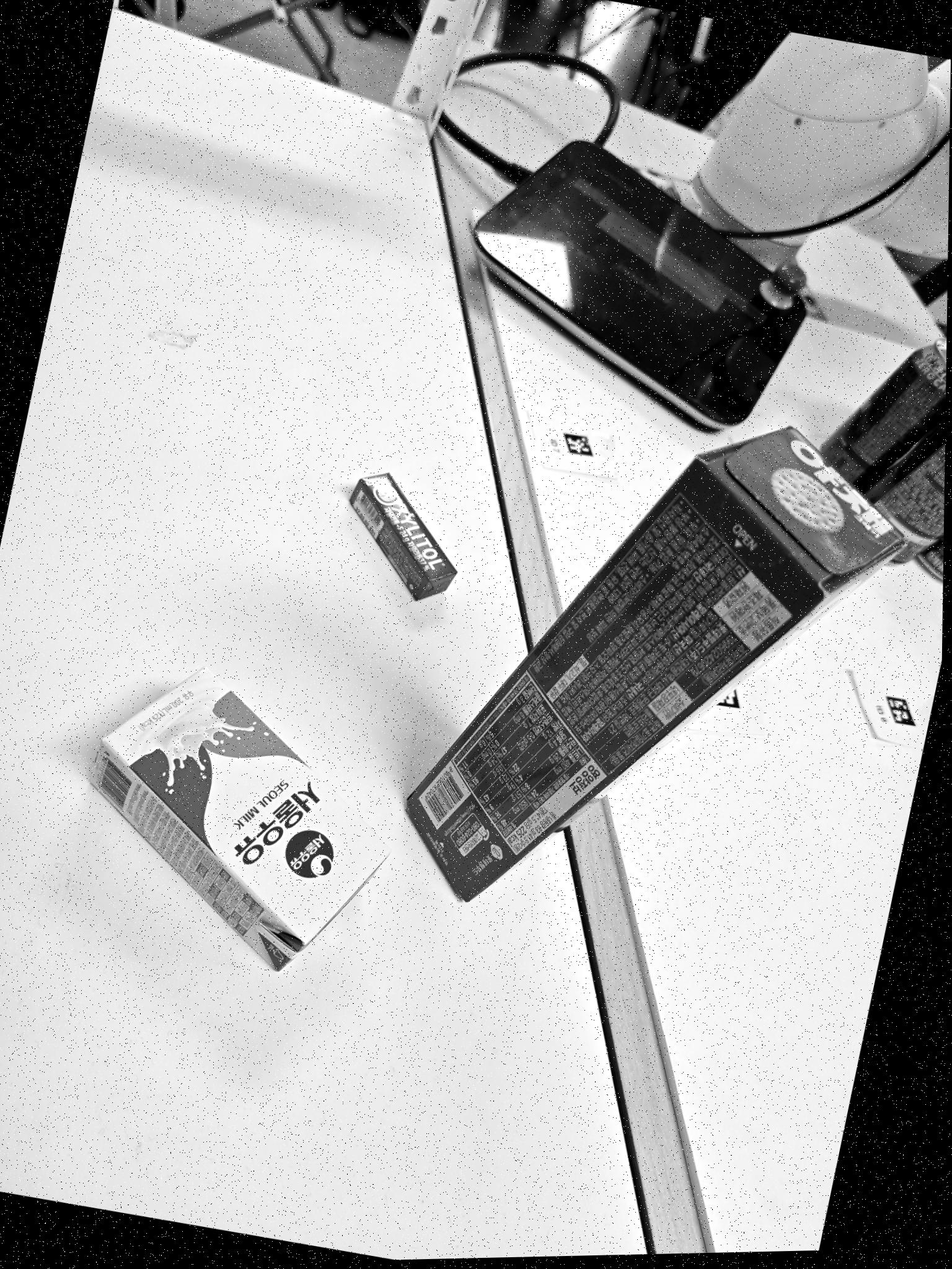cracker_vege: (407, 427, 905, 900)
gum_green: (351, 474, 457, 600)
milk_green: (91, 668, 389, 971)
